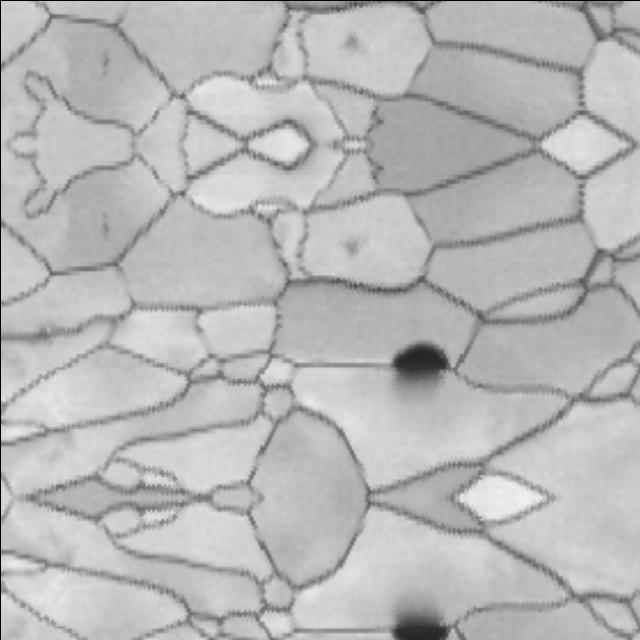good_void: (375, 322, 460, 407), (387, 601, 453, 640), (28, 305, 69, 350), (325, 226, 366, 265), (325, 21, 366, 60), (82, 207, 119, 248), (82, 38, 119, 79)
